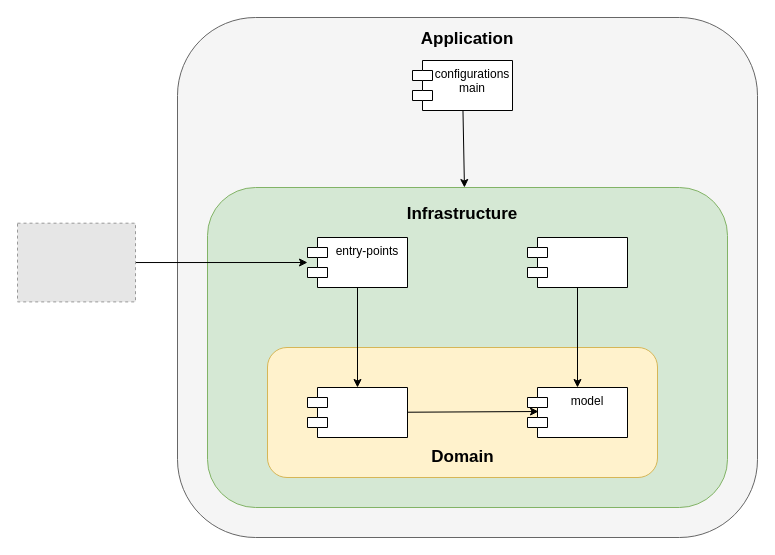
Some shapes in this 775 by 555 pixel diagram are drawn without their labels. Grey dashed boxes stand in for pictures. The shapes that lost their labels are listed below. From the top down, each one's centre as x and y in pixels, then its label:
point (577, 262): helpers
point (357, 412): usecase
